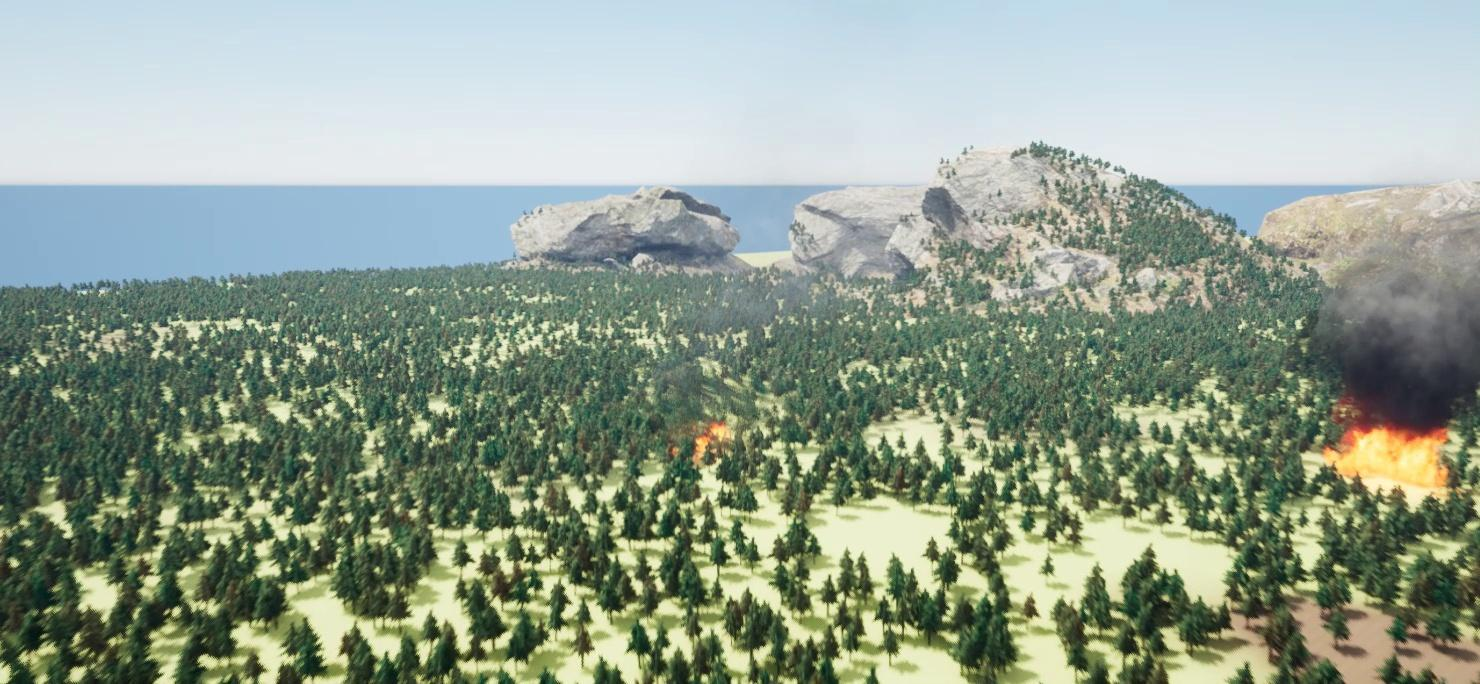fire: (1324, 418, 1454, 483), (662, 421, 736, 457)
smoke: (1310, 236, 1479, 427)
